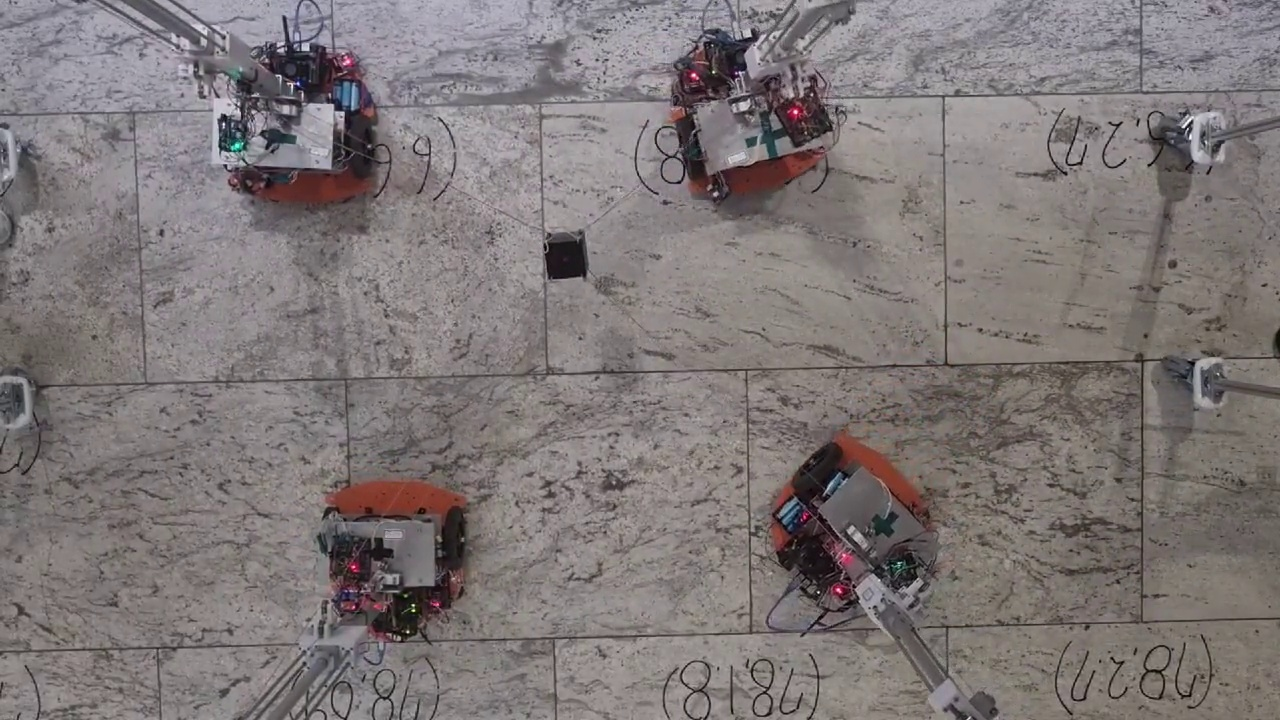r1: (791, 443, 935, 585)
r2: (674, 85, 828, 179)
r3: (219, 109, 375, 180)
r4: (315, 504, 468, 571)
y_+_axis_vector: (546, 366, 947, 374)
y_-_axis_vector: (146, 375, 547, 383)
